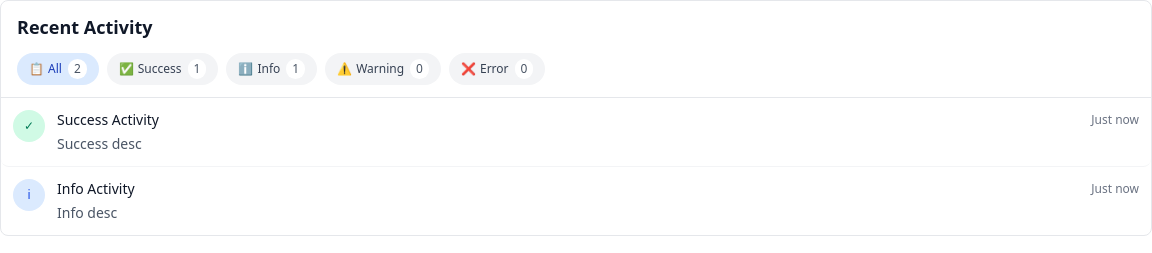
ActivityList › shows empty state when no activities match filter
Click on Error filter (no danger activities exist)
Click the button "❌ Error 0" at (497, 69), box [449, 53, 545, 85]
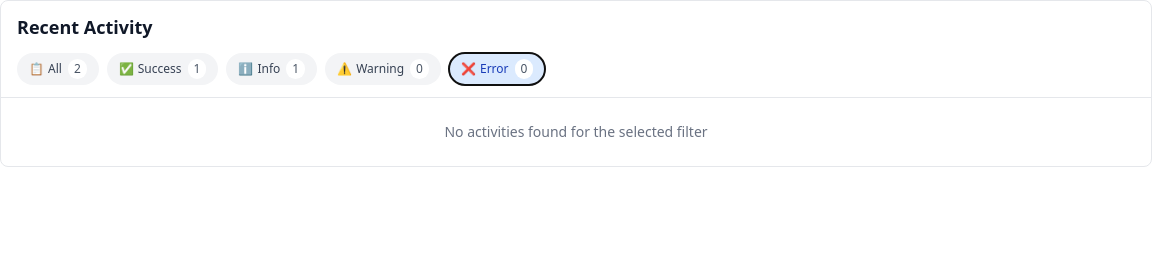
Result: the text "No activities found for the selected filter" is shown at [444, 122, 708, 141]
